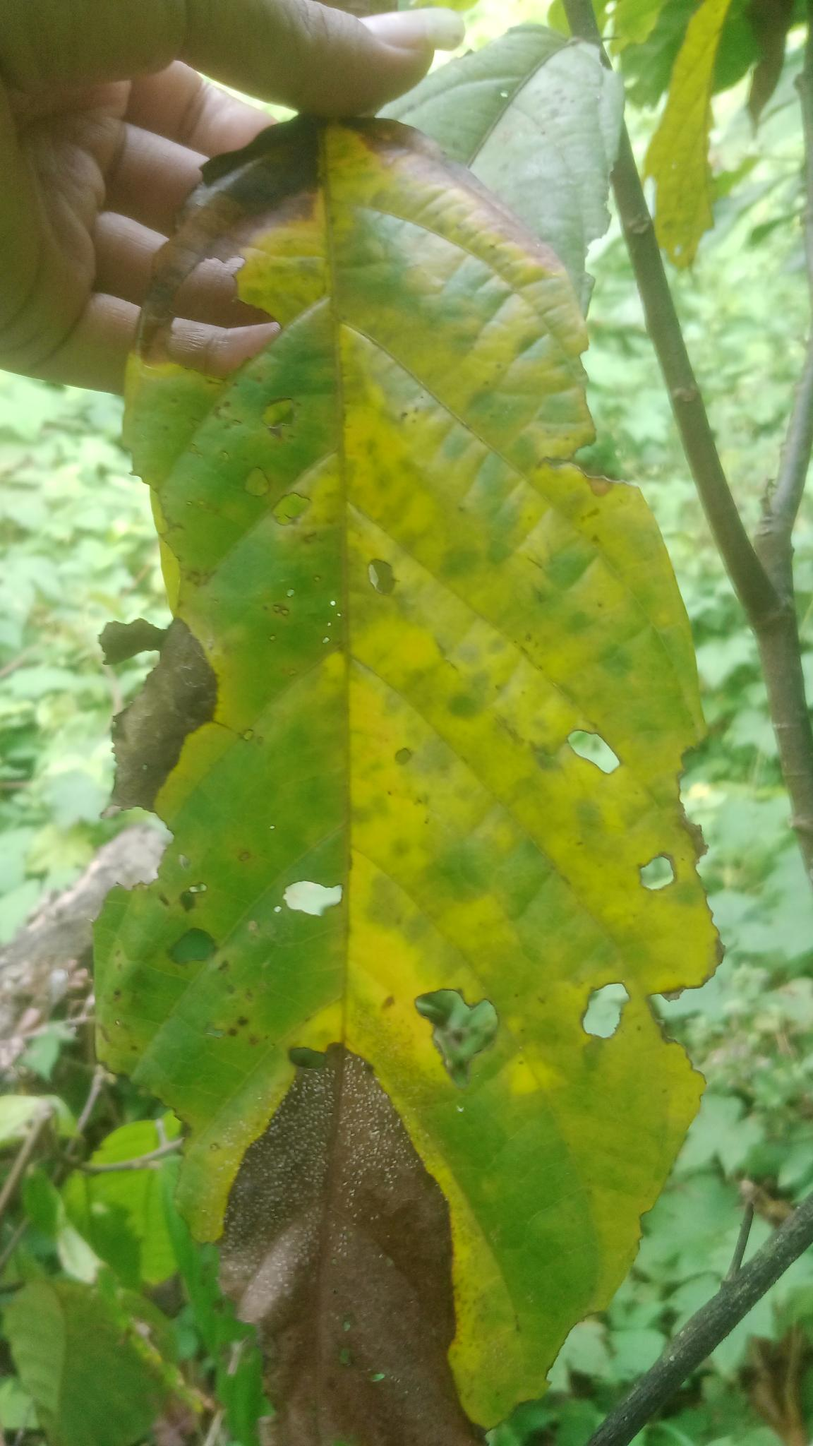Fosforo: (19, 121, 723, 1446)
